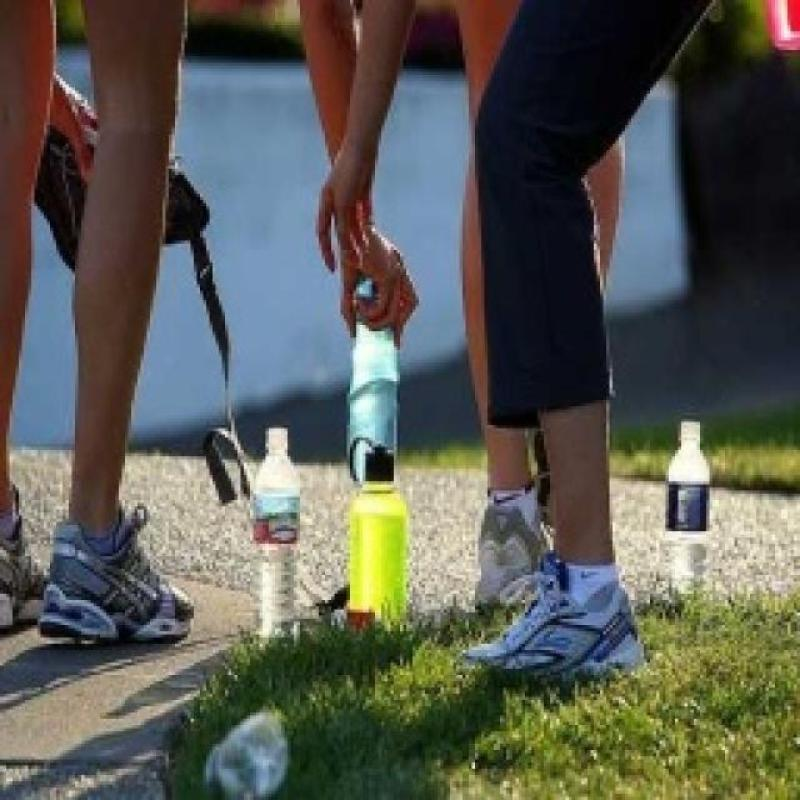botella: (249, 428, 303, 638), (664, 422, 711, 606), (200, 720, 290, 792)
